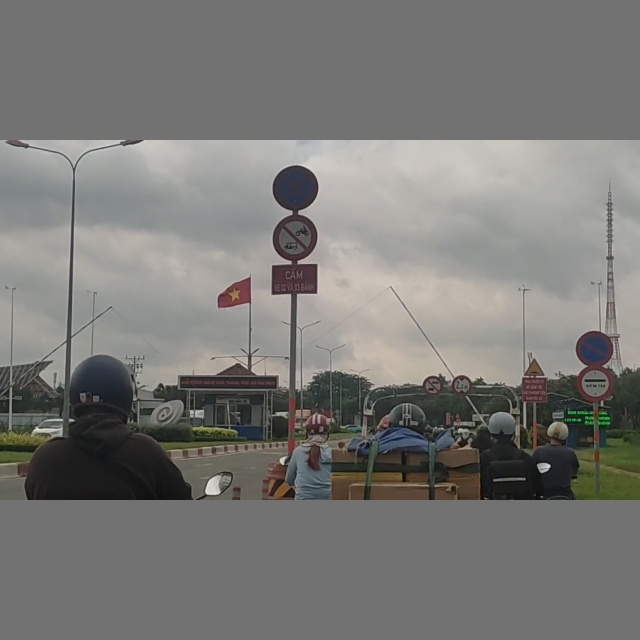P.107: (423, 376, 443, 395)
P.111: (274, 215, 318, 260)
P.117*: (451, 375, 473, 397)
P.129: (577, 369, 613, 401)
P.130: (273, 166, 318, 210)
P.131a: (575, 330, 613, 365)
W.221b: (523, 358, 547, 376)
